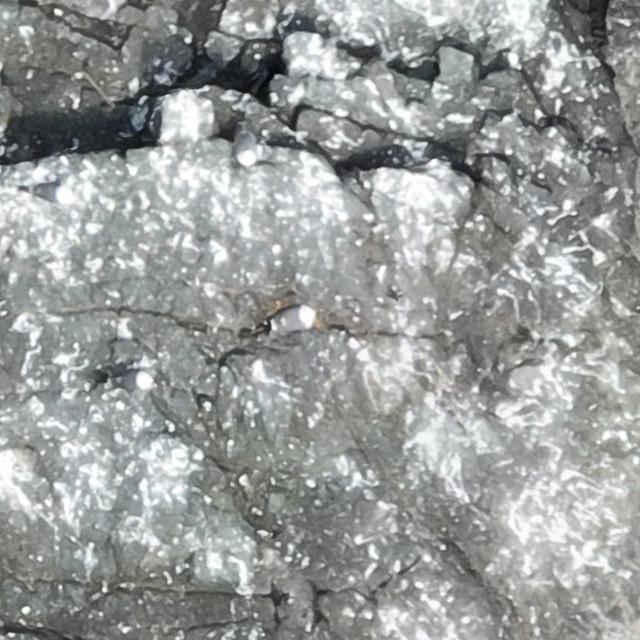umineko: (110, 370, 155, 392), (234, 126, 256, 169), (272, 306, 312, 329), (29, 184, 67, 202)
